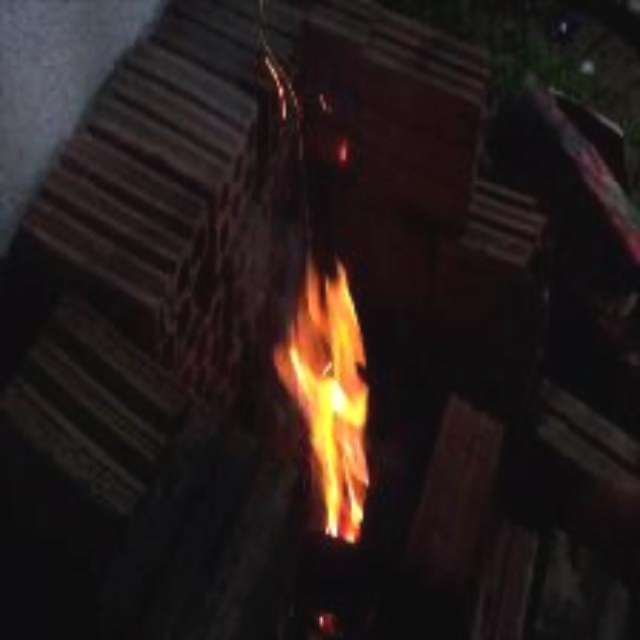fire: (231, 152, 422, 572)
